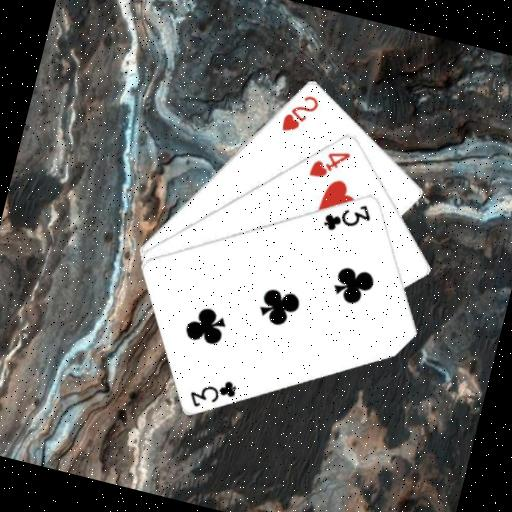2H: (278, 87, 323, 140)
3C: (184, 368, 241, 418), (319, 192, 377, 241)
4H: (305, 140, 353, 186)
